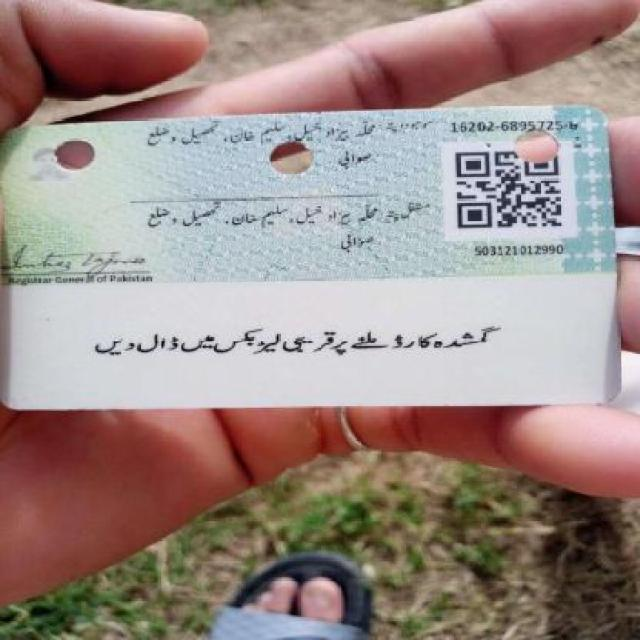Back: (8, 104, 632, 410)
